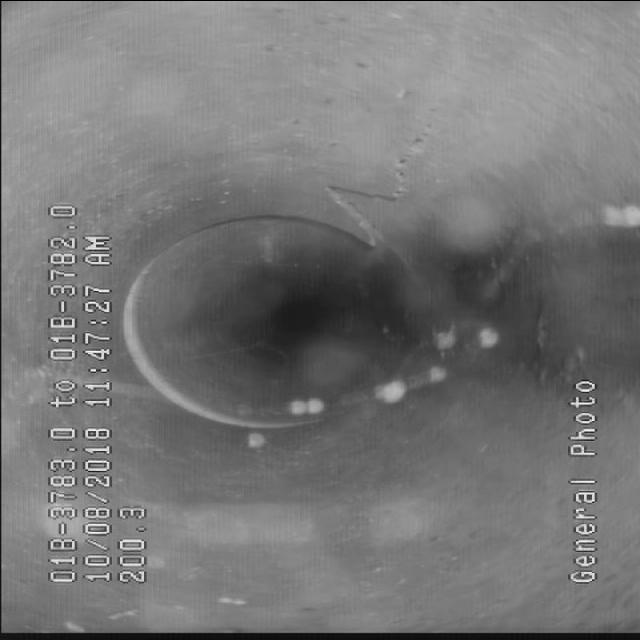Crack: (304, 122, 457, 242)
